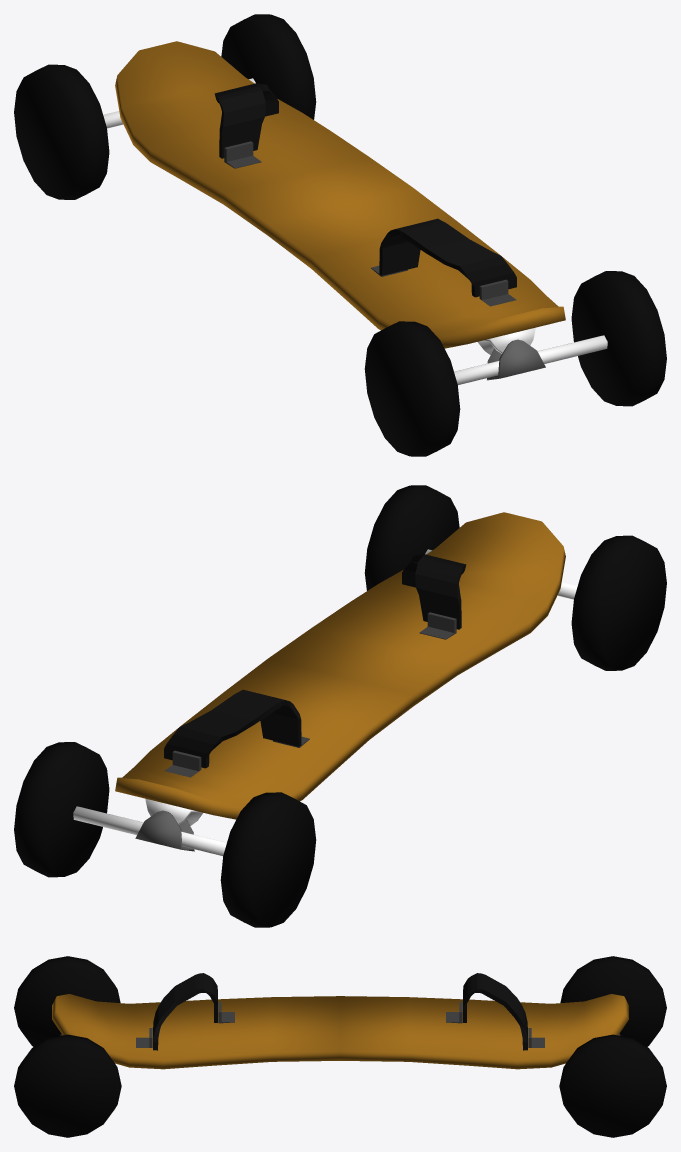
Rendered from board.glb.
The picture shows the model from 3 angles, top to bottom: view 1: azimuth 30°, elevation 25°; view 2: azimuth 150°, elevation 25°; view 3: azimuth 270°, elevation 25°; orthographic projection. The views are drawn at different scales.
Visible parts, largest first — view 1: Cube, Cylinder_001, Cylinder_005, Cylinder, Plane_005, Cylinder_004, Plane_004, Cylinder_002, Plane, Plane_001; view 2: Cube, Cylinder_005, Cylinder_001, Cylinder_004, Plane_004, Cylinder, Plane_005, Cylinder_003, Plane_003, Plane_002; view 3: Cube, Cylinder, Cylinder_004, Cylinder_001, Cylinder_005, Plane_004, Plane_005.
Boxes of the visible parts, bbox=[...] form: Cube: bbox=[115, 41, 565, 348]; Cylinder_001: bbox=[364, 321, 460, 456]; Cylinder_005: bbox=[14, 64, 109, 199]; Cylinder: bbox=[571, 271, 666, 406]; Plane_005: bbox=[371, 218, 516, 306]; Cylinder_004: bbox=[221, 14, 316, 119]; Plane_004: bbox=[214, 83, 278, 168]; Cylinder_002: bbox=[454, 335, 607, 384]; Plane: bbox=[487, 339, 545, 380]; Plane_001: bbox=[478, 327, 535, 354]; Cube: bbox=[115, 512, 565, 819]; Cylinder_005: bbox=[220, 792, 316, 927]; Cylinder_001: bbox=[571, 535, 666, 670]; Cylinder_004: bbox=[14, 742, 109, 877]; Plane_004: bbox=[164, 689, 309, 777]; Cylinder: bbox=[364, 485, 459, 590]; Plane_005: bbox=[402, 554, 466, 639]; Cylinder_003: bbox=[73, 806, 226, 855]; Plane_003: bbox=[135, 810, 194, 851]; Plane_002: bbox=[145, 798, 202, 825]; Cube: bbox=[52, 994, 628, 1069]; Cylinder: bbox=[14, 1034, 121, 1137]; Cylinder_004: bbox=[559, 1034, 666, 1137]; Cylinder_001: bbox=[14, 956, 120, 1046]; Cylinder_005: bbox=[560, 956, 666, 1046]; Plane_004: bbox=[446, 973, 544, 1050]; Plane_005: bbox=[136, 973, 234, 1050].
Bounding box in the file's own units: 0.7798 × 0.4459 × 2.39.
